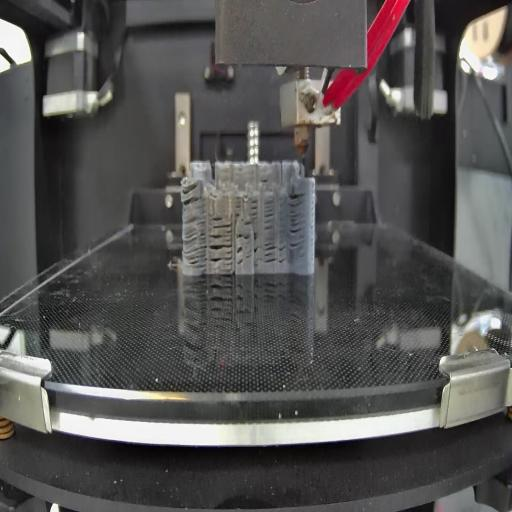cracks: (209, 218, 234, 274), (184, 215, 209, 268), (290, 192, 306, 247), (236, 231, 261, 265), (264, 242, 287, 265), (182, 183, 202, 207), (311, 182, 315, 266), (264, 202, 275, 232), (235, 196, 242, 220), (250, 200, 258, 216), (258, 178, 270, 185), (244, 220, 252, 228)
